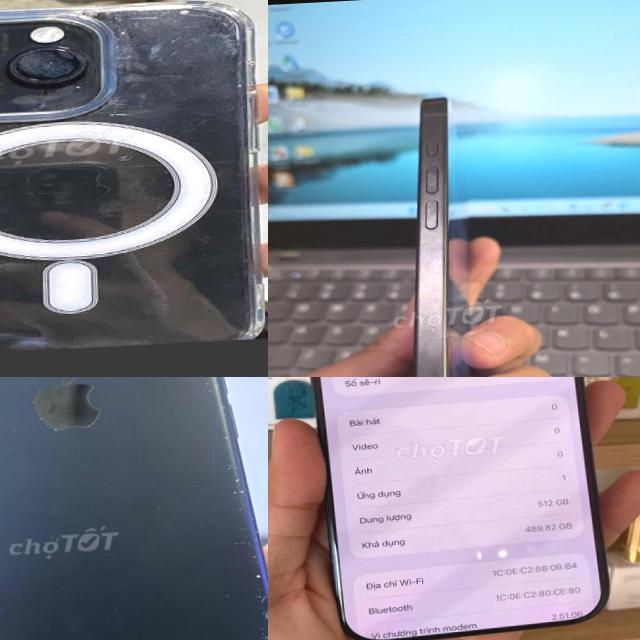scratch: (54, 0, 261, 124), (0, 38, 94, 108), (19, 377, 102, 435), (232, 532, 268, 640), (210, 421, 250, 515), (422, 200, 446, 333), (0, 377, 14, 432), (198, 377, 221, 394)
